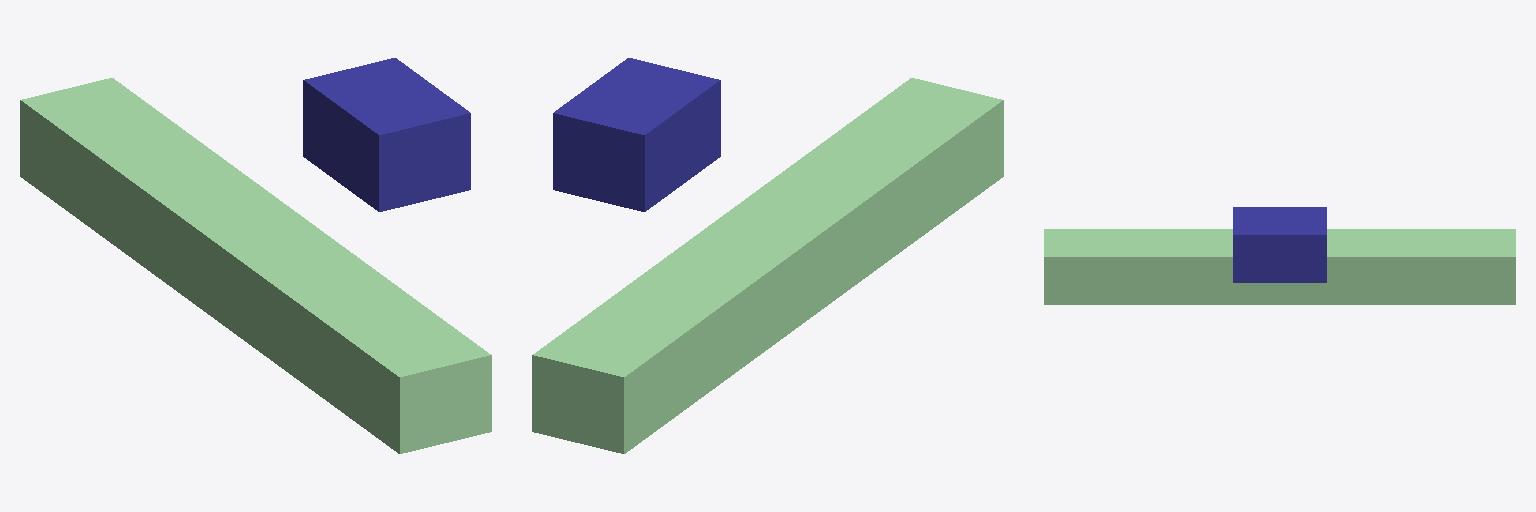
robot.urdf — conveyor:
<?xml version="1.0"?>

<robot name="conveyor">

  <link name="conveyor_block">
    <visual>
      <origin xyz="0.0 0.0 0.14" />
      <geometry>
        <box size="0.35 2.5 0.28" />
      </geometry>
      <material name='light_green'>
        <color rgba="0.7 0.9 0.7 1" />
      </material>
    </visual>

    <collision>
      <origin xyz="0.0 0.0 0.14" />
      <geometry>
        <box size="0.35 2.5 0.28" />
      </geometry>
    </collision>
  </link>

  <link name="fixed_uncertain_block">
    <visual>
      <origin xyz="0.0 0.0 0.0" />
      <geometry>
        <box size="0.35 0.5 0.28" />
      </geometry>
      <material name='blue'>
        <color rgba="0.3 0.3 0.7 1" />
      </material>
    </visual>

    <collision>
      <origin xyz="0.0 0.0 0.0" />
      <geometry>
        <box size="0.35 0.5 0.28" />
      </geometry>
    </collision>
  </link>

  <joint name="conveyor_to_fixed_uncertain_block" type="fixed">
    <parent link="conveyor_block" />
    <child link="fixed_uncertain_block" />
    <origin xyz="0.5 0 0.5"/>
  </joint>

</robot>

--- Facts derived from the render (not from the file) ---
3 views of the same robot in one strip: view 1: azimuth 30°, elevation 25°; view 2: azimuth 150°, elevation 25°; view 3: azimuth 270°, elevation 25° (orthographic).
Robot: conveyor — 2 links, 1 joints (1 fixed); root link conveyor_block; default pose: every joint at zero.
Visible links, largest first — view 1: conveyor_block, fixed_uncertain_block; view 2: conveyor_block, fixed_uncertain_block; view 3: conveyor_block, fixed_uncertain_block.
Boxes of the visible links, left/top/right/bottom form: conveyor_block: left=20, top=78, right=491, bottom=453; fixed_uncertain_block: left=303, top=58, right=470, bottom=211; conveyor_block: left=532, top=78, right=1003, bottom=453; fixed_uncertain_block: left=553, top=58, right=720, bottom=211; conveyor_block: left=1044, top=229, right=1515, bottom=304; fixed_uncertain_block: left=1233, top=207, right=1326, bottom=282.
Bounding box of the posed robot: 0.85 × 2.5 × 0.64 m (x, y, z).
Geometry: primitives only (box / cylinder / sphere), no mesh files.